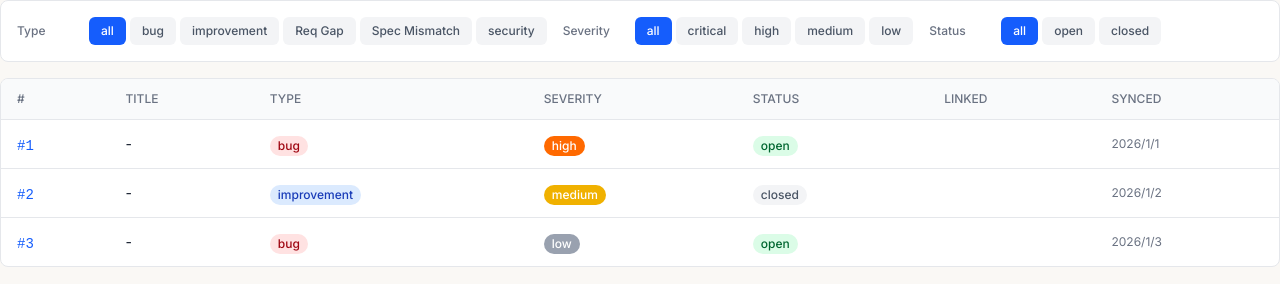
Test case: FeedbackClientView › statusフィルタで絞り込みができる
This screenshot has width=1280, height=284.
Click the button with test id "filter-status-closed".
click(1130, 31)  # box top-left (1099, 17), bottom-right (1161, 45)
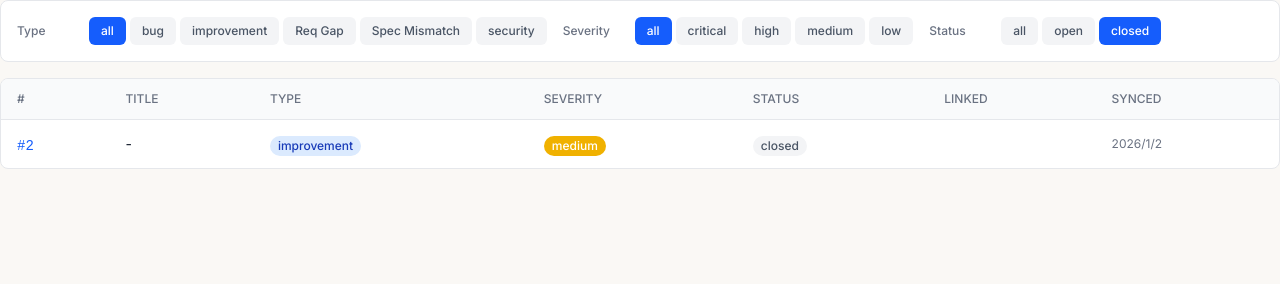
Expected: the number of rows with test id "feedback-row" is 1, top-left (1, 120), bottom-right (1279, 168)
